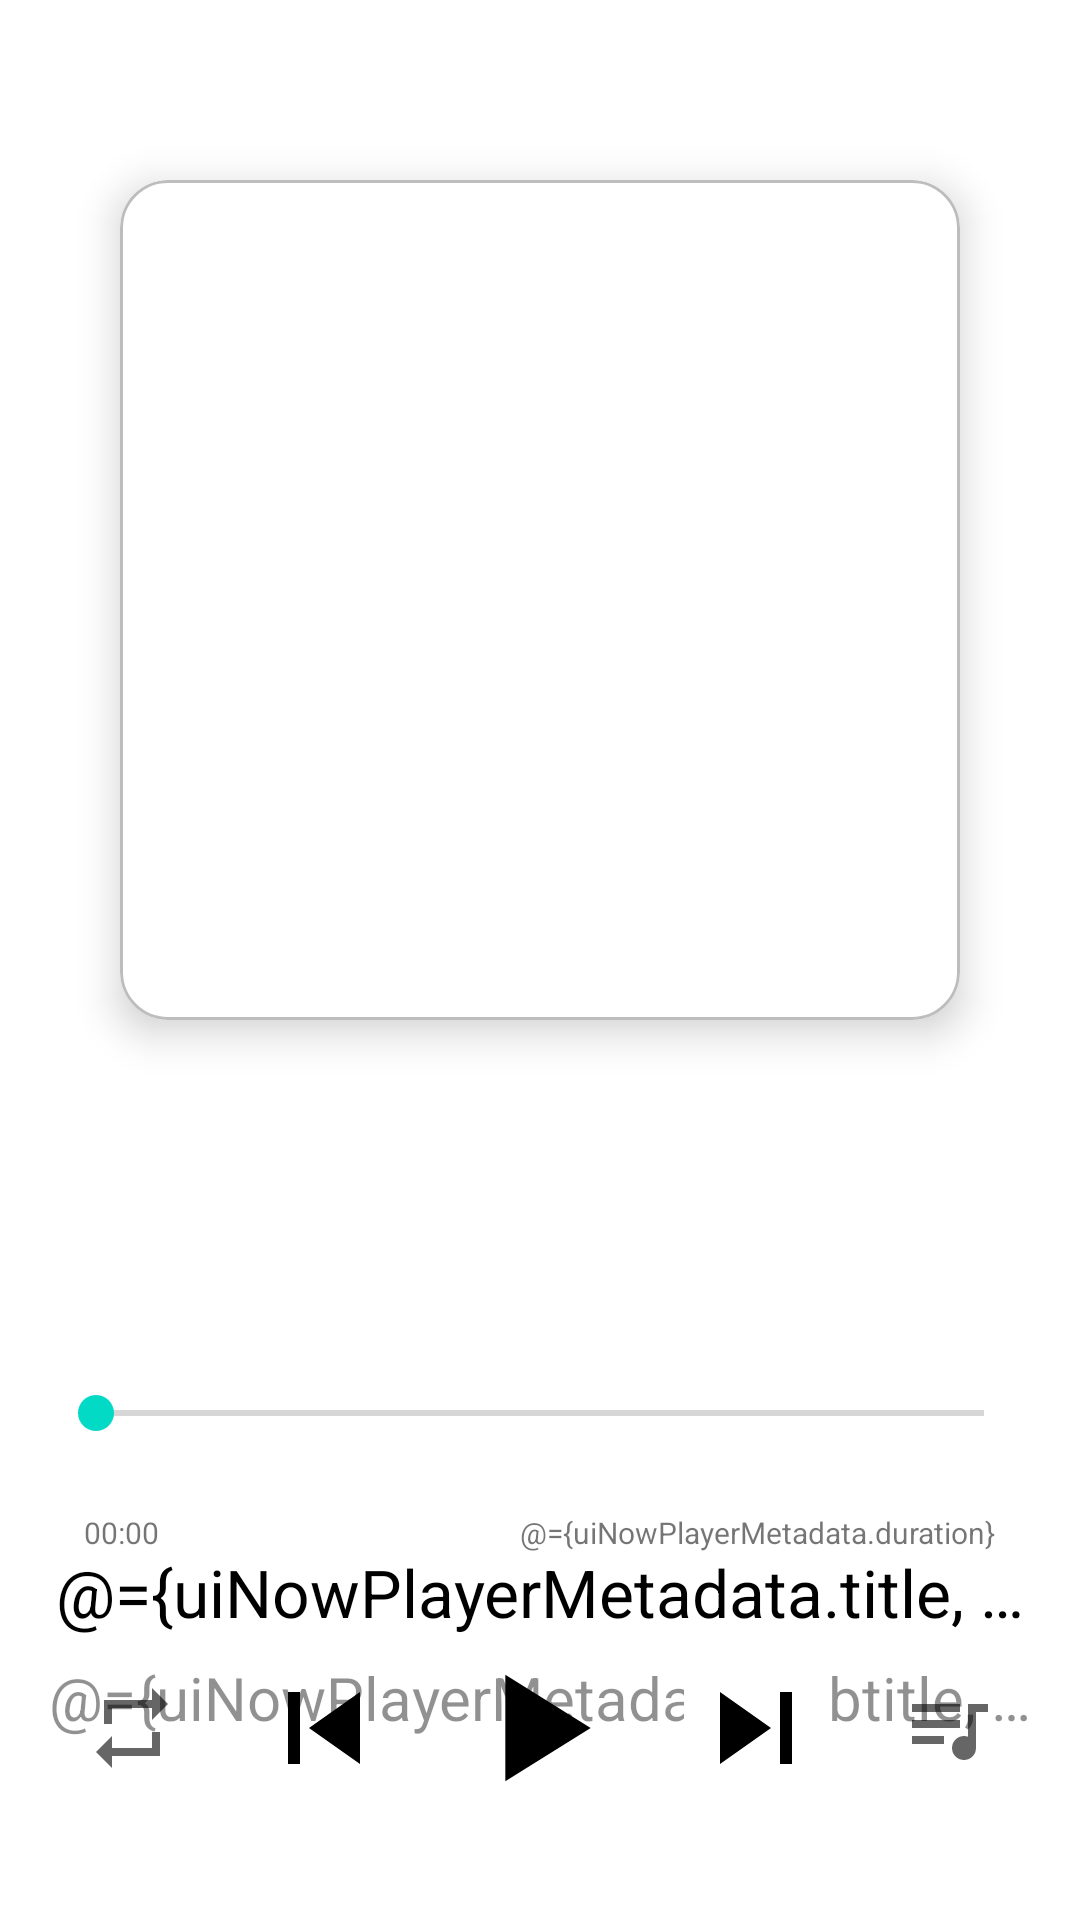

Locate icon controls on the screen. Image size 1080x1920, boxes as (x1, y1, x2, y2).
asl playpause: (444, 1675, 625, 1781)
queue music: (900, 1680, 988, 1760)
repeat: (84, 1680, 180, 1768)
skip next: (720, 1692, 792, 1764)
skip previous: (252, 1676, 374, 1764)
